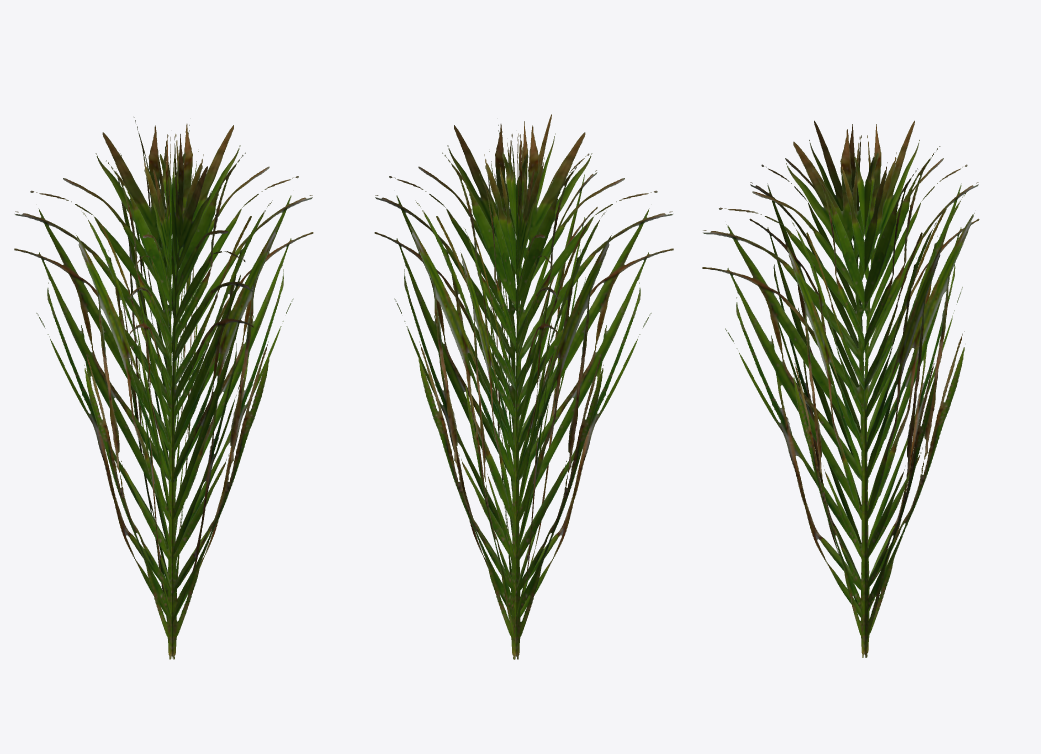
Rendered from Model_Plant_05_Large.fbx.
The picture shows the model from 3 angles, left to right: view 1: azimuth 30°, elevation 25°; view 2: azimuth 150°, elevation 25°; view 3: azimuth 270°, elevation 25°; orthographic projection.
Parts seen in each view (by area): view 1: CavePlant_02_L; view 2: CavePlant_02_L; view 3: CavePlant_02_L.
Boxes of the visible parts, <box> form: CavePlant_02_L: <box>14,117,313,659</box>; CavePlant_02_L: <box>374,114,673,659</box>; CavePlant_02_L: <box>702,120,979,657</box>.
Bounding box in the file's own units: 77.09 × 154 × 77.09.
